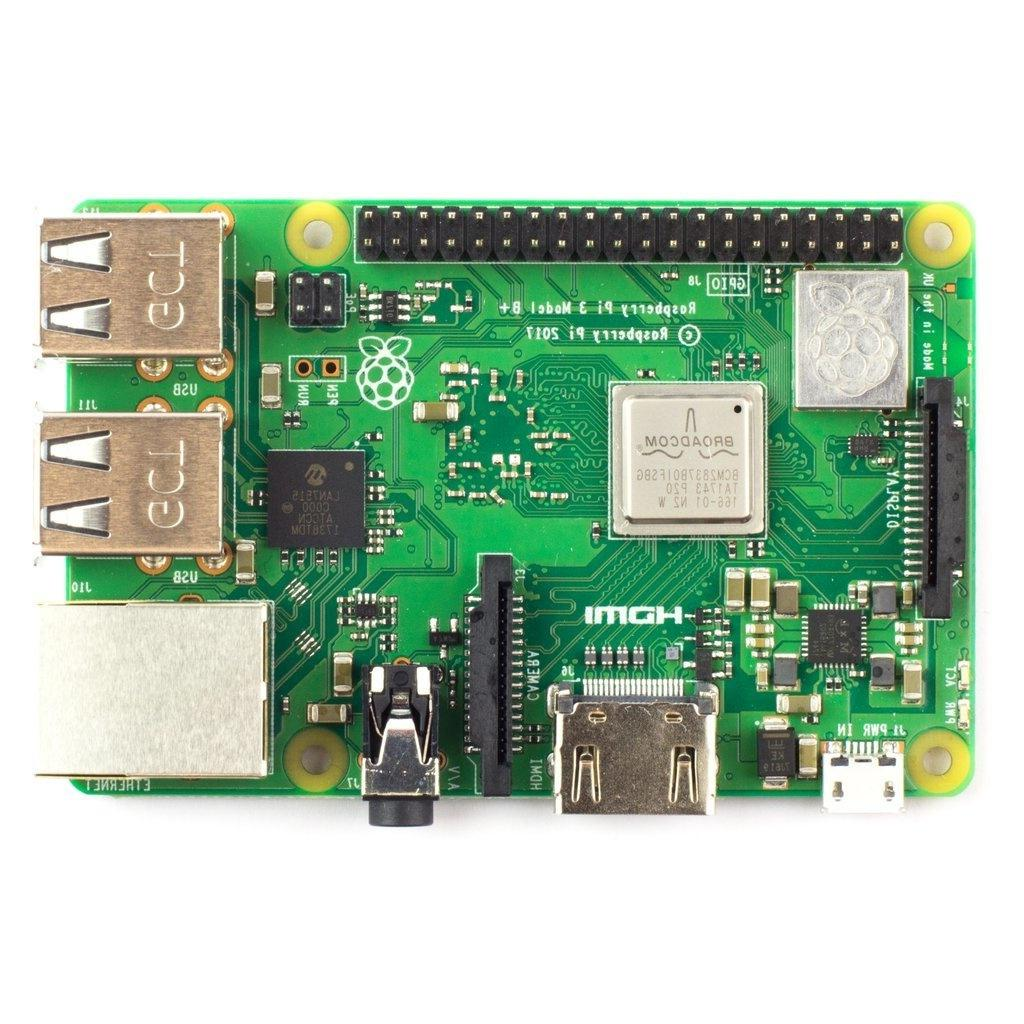audiojack: (363, 662, 451, 829)
bchi: (602, 377, 768, 539)
ethernet: (28, 605, 270, 786)
gpio: (356, 191, 901, 270)
usb: (37, 208, 227, 366), (33, 412, 221, 558)
